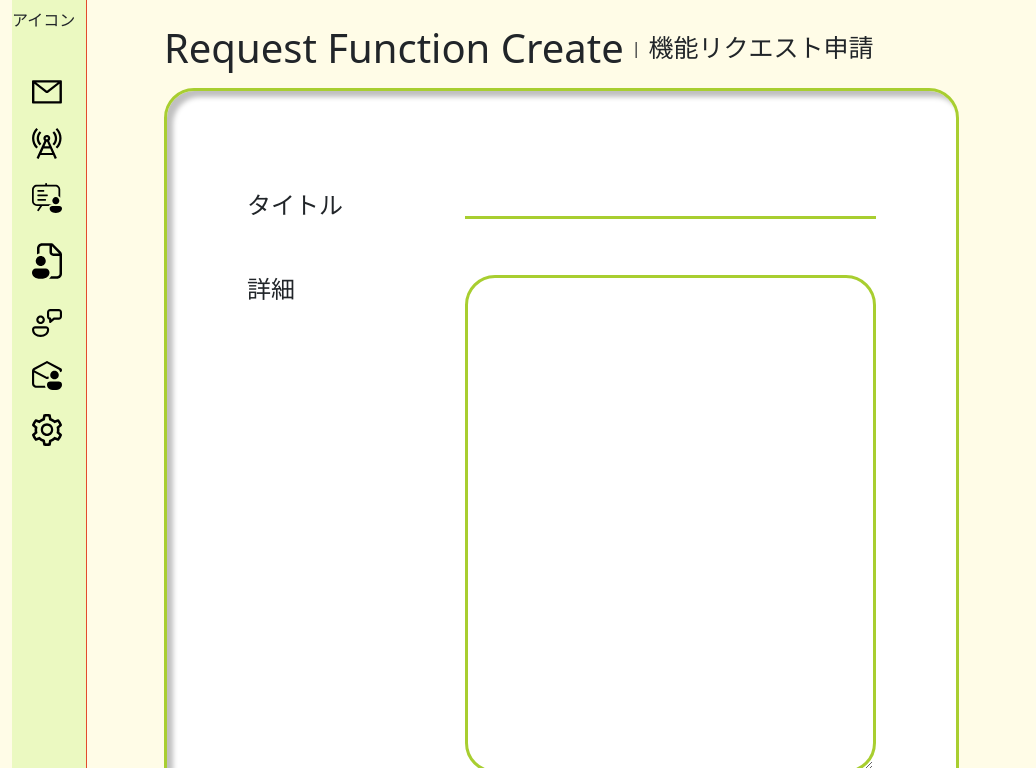
Scenario: 機能リクエスト作成 › 詳細を入れないとバリデーションメッセージが表示される
The width and height of the screenshot is (1036, 768).
Type "機能リクエスト1" into the field with test id "request-function-request-input-name".
click(670, 205); type("機能リクエスト1")  # box [465, 191, 876, 219]
(page scrolled)
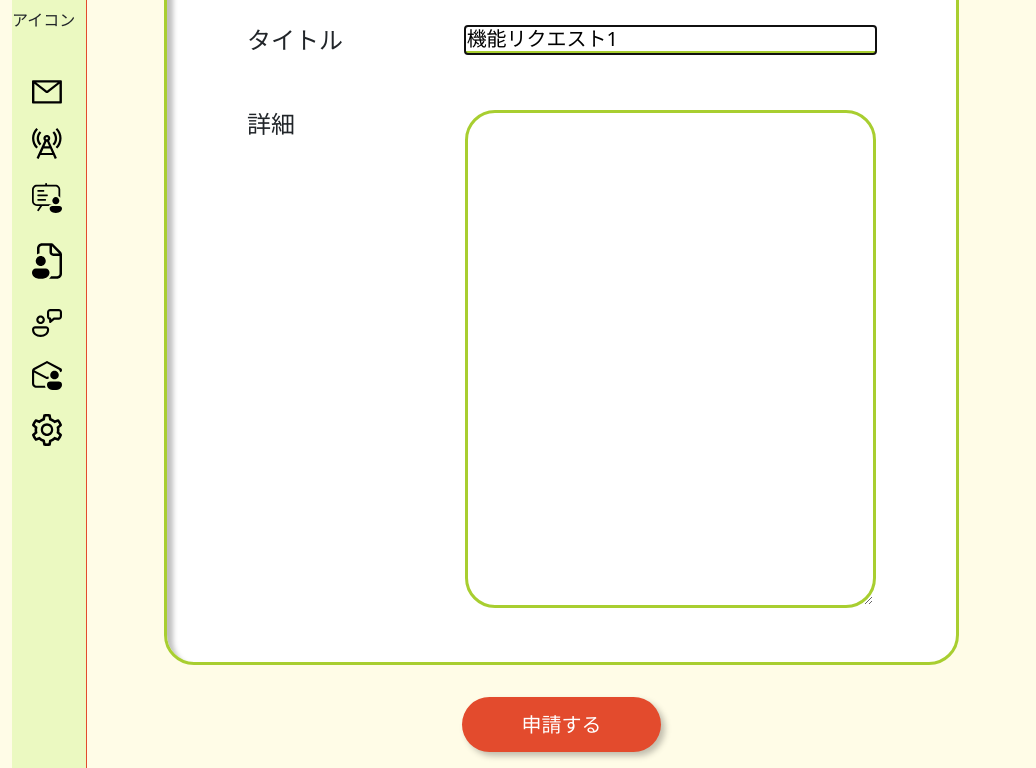
Click the button.
click(562, 724)  # box [462, 697, 661, 752]
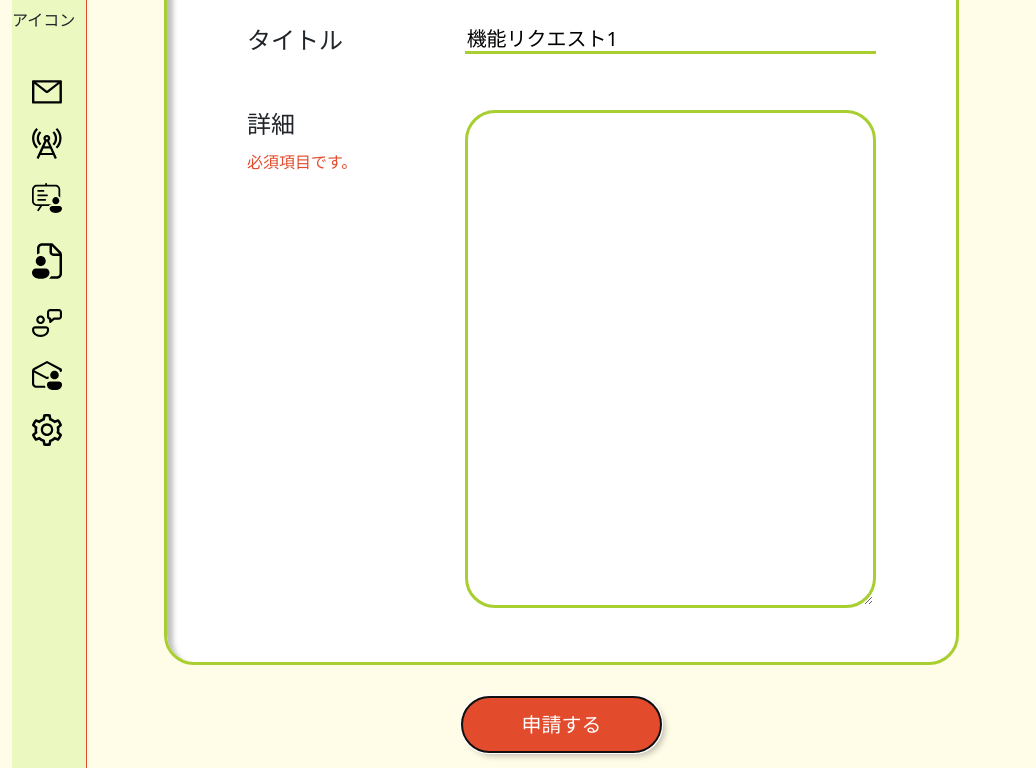
Check: the text "必須項目です。" is shown, box [247, 151, 357, 173]
